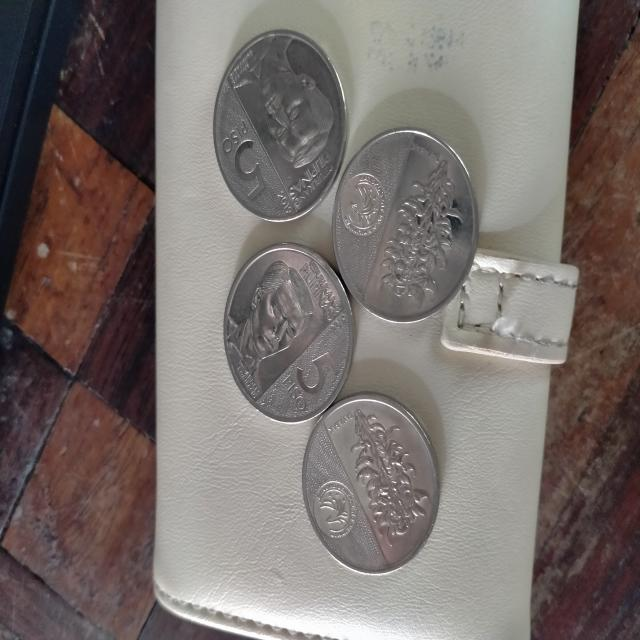5_New_Back: (372, 149, 468, 321), (350, 414, 436, 557)
5_New_Front: (211, 117, 276, 210), (279, 347, 345, 420)
